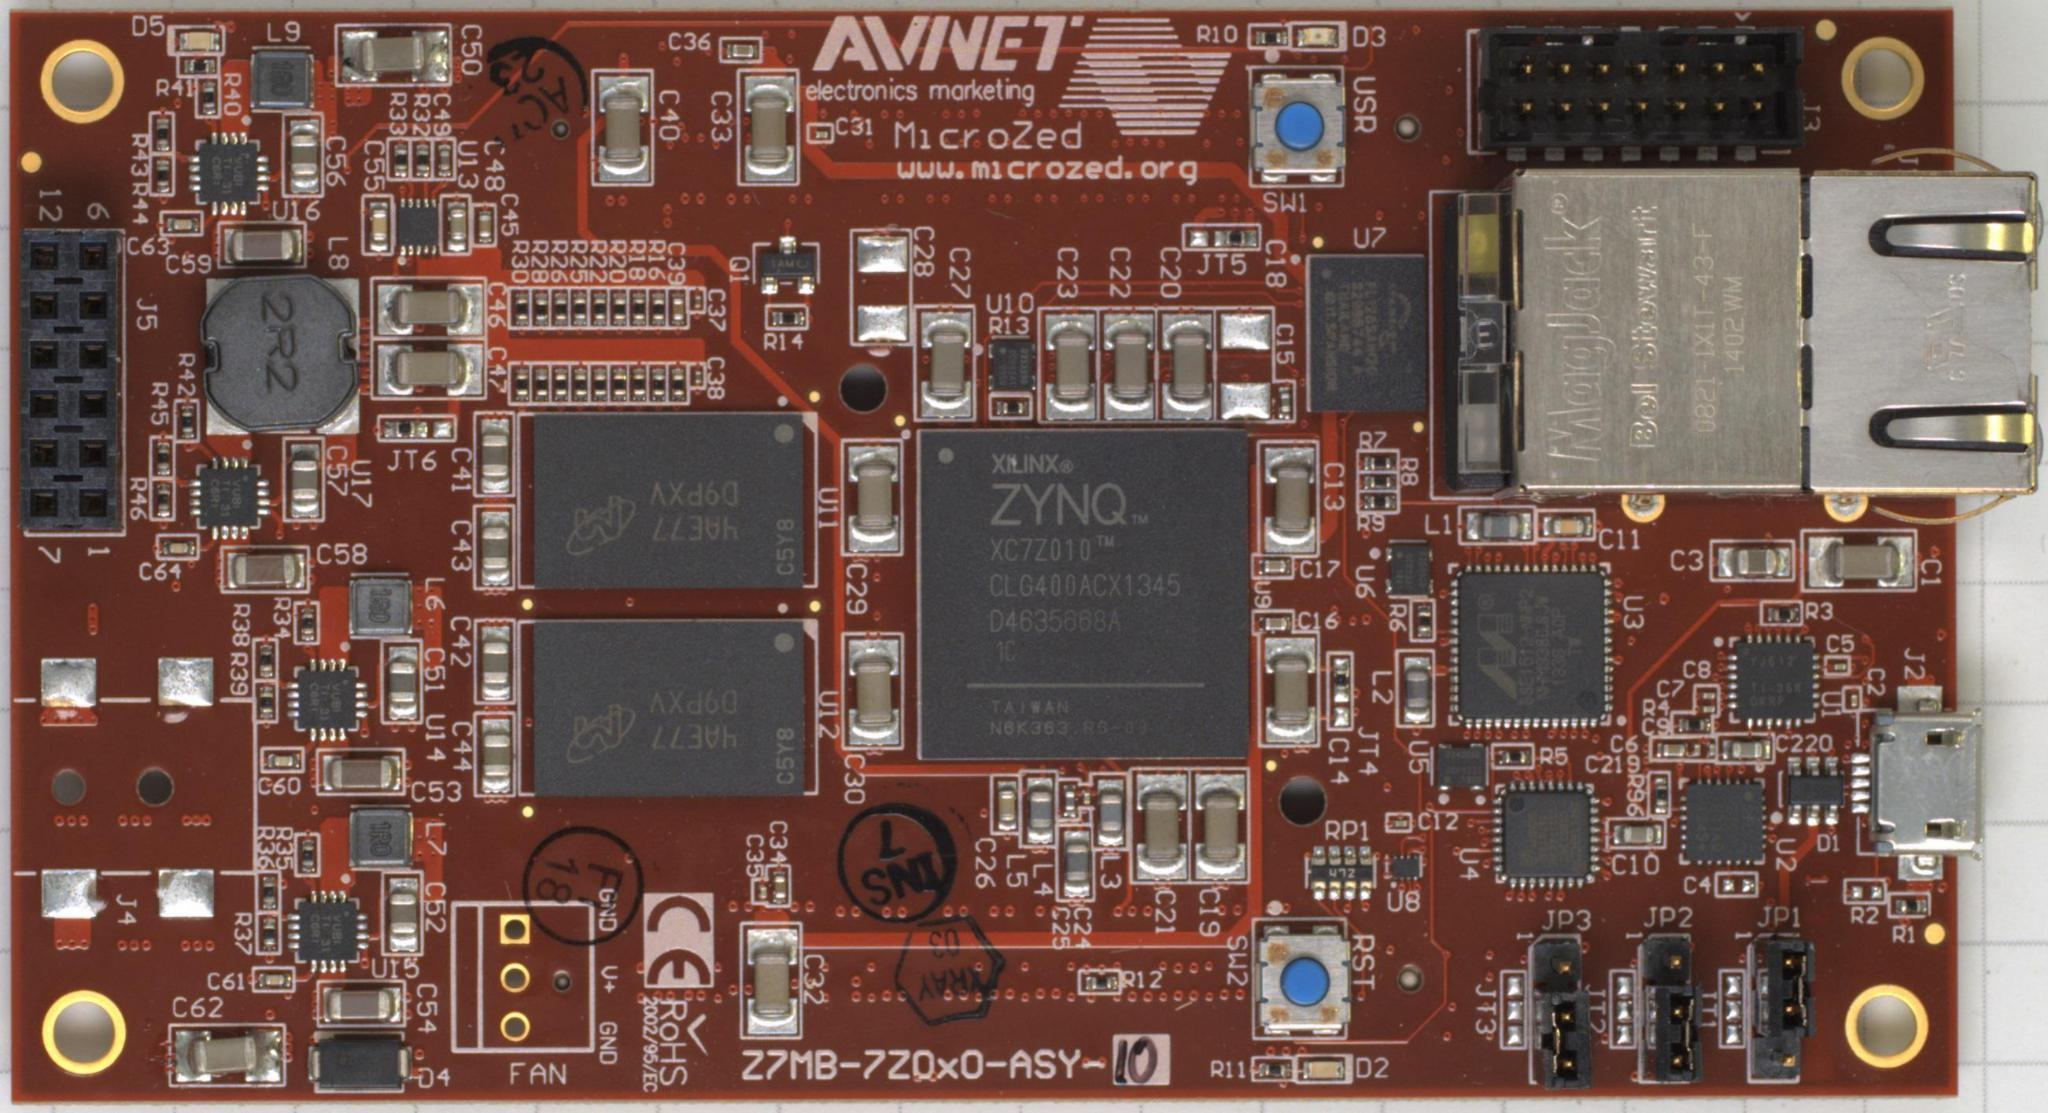Button: (1249, 916, 1351, 1039), (1251, 73, 1347, 184)
Capacitor: (173, 1027, 282, 1083), (338, 29, 449, 84), (1192, 770, 1247, 880), (736, 74, 790, 182), (918, 308, 973, 417), (375, 281, 484, 334), (1263, 636, 1316, 744), (597, 79, 651, 186), (1042, 311, 1096, 418), (1160, 313, 1214, 419), (1263, 445, 1316, 552), (1136, 770, 1188, 880), (847, 441, 899, 551), (747, 927, 799, 1035), (375, 343, 484, 395), (847, 637, 899, 746), (1101, 313, 1153, 419), (1806, 535, 1912, 587), (225, 550, 305, 589), (321, 984, 401, 1023), (321, 753, 401, 791), (222, 228, 301, 265), (478, 624, 512, 702), (479, 509, 512, 587), (479, 715, 512, 794), (1716, 544, 1790, 577), (290, 441, 322, 518), (388, 876, 419, 950), (288, 118, 318, 195), (479, 415, 510, 492), (388, 644, 418, 720), (444, 200, 469, 254), (995, 780, 1016, 832), (1612, 822, 1663, 844), (1543, 515, 1593, 537), (1722, 739, 1771, 761), (367, 201, 388, 252), (475, 208, 493, 244), (258, 970, 292, 988), (164, 214, 199, 232), (162, 540, 197, 556), (771, 868, 788, 902), (1655, 742, 1689, 758), (1275, 384, 1292, 417), (727, 42, 760, 59), (1258, 559, 1290, 576), (1258, 615, 1290, 632), (269, 753, 301, 769), (436, 143, 451, 175), (1062, 783, 1075, 818), (671, 291, 685, 325), (1390, 818, 1408, 829), (811, 129, 829, 140), (1706, 740, 1716, 758), (1081, 790, 1092, 806), (690, 292, 701, 308), (1699, 689, 1715, 700), (758, 884, 769, 899), (1832, 661, 1847, 672), (692, 367, 701, 384), (1849, 694, 1858, 709), (1701, 705, 1716, 713), (1693, 742, 1701, 757)
Connector: (1427, 147, 2047, 526), (1463, 25, 1803, 162), (16, 228, 122, 533), (1851, 683, 1985, 881), (495, 905, 534, 1039), (1638, 935, 1692, 986), (1532, 938, 1582, 988), (1752, 1038, 1801, 1081)
Diode: (310, 1029, 414, 1094), (1786, 755, 1844, 827)
IC: (916, 429, 1249, 761), (532, 411, 806, 589), (532, 618, 806, 796), (1448, 561, 1614, 726), (1307, 255, 1427, 413), (1490, 779, 1600, 890), (1727, 635, 1821, 726), (1677, 779, 1764, 866), (288, 659, 371, 744), (189, 132, 270, 219), (288, 890, 370, 973), (188, 455, 269, 539), (1385, 539, 1434, 598), (1436, 742, 1486, 792), (986, 339, 1036, 391), (396, 197, 436, 256), (1390, 854, 1419, 881)
Inductor: (200, 276, 362, 436), (249, 51, 315, 110), (348, 809, 414, 868), (349, 577, 414, 635), (1062, 827, 1090, 898), (1401, 654, 1430, 724), (1026, 776, 1053, 844), (1464, 511, 1532, 539), (1097, 777, 1123, 847)
Jumper: (1755, 935, 1818, 1038), (1641, 986, 1703, 1084), (1534, 987, 1590, 1090)
Led: (170, 26, 225, 53), (1301, 1060, 1345, 1080), (1295, 27, 1337, 47)
Pads: (38, 657, 218, 921), (853, 233, 908, 341), (1218, 311, 1271, 418), (1723, 972, 1743, 1046), (1615, 972, 1633, 1044), (1504, 975, 1522, 1044), (1721, 876, 1753, 894), (1849, 883, 1884, 899)
Resistor: (1186, 229, 1258, 248), (382, 419, 453, 439), (1334, 657, 1352, 726)
Resistor Jumper: (1301, 843, 1378, 898)
Resistor Network: (769, 308, 806, 326), (155, 440, 173, 476), (1084, 973, 1118, 991), (299, 607, 316, 641), (1256, 1060, 1289, 1077), (995, 399, 1027, 417), (179, 403, 196, 439), (1766, 604, 1799, 622), (200, 79, 216, 114), (153, 482, 170, 517), (1653, 774, 1669, 811), (552, 291, 569, 323), (630, 291, 647, 323), (512, 292, 529, 325), (533, 292, 549, 325), (570, 292, 586, 325), (590, 292, 607, 325), (611, 292, 627, 325), (1415, 604, 1432, 637), (263, 916, 278, 951), (155, 117, 170, 152), (392, 143, 407, 178), (155, 158, 170, 193), (301, 837, 316, 872), (262, 874, 277, 909), (258, 644, 273, 678), (260, 685, 275, 720), (1496, 748, 1530, 763), (1895, 896, 1927, 912), (414, 144, 429, 177), (649, 291, 664, 323), (1253, 30, 1286, 45), (1363, 455, 1396, 470), (1363, 474, 1396, 489), (1363, 493, 1396, 509), (182, 58, 215, 73), (1678, 718, 1711, 733), (671, 365, 685, 400), (514, 366, 527, 402), (553, 366, 567, 402), (612, 366, 626, 402), (632, 366, 645, 402), (652, 366, 666, 402), (534, 367, 548, 402), (573, 367, 586, 402), (593, 367, 607, 402)
Transistor: (759, 233, 815, 297)
